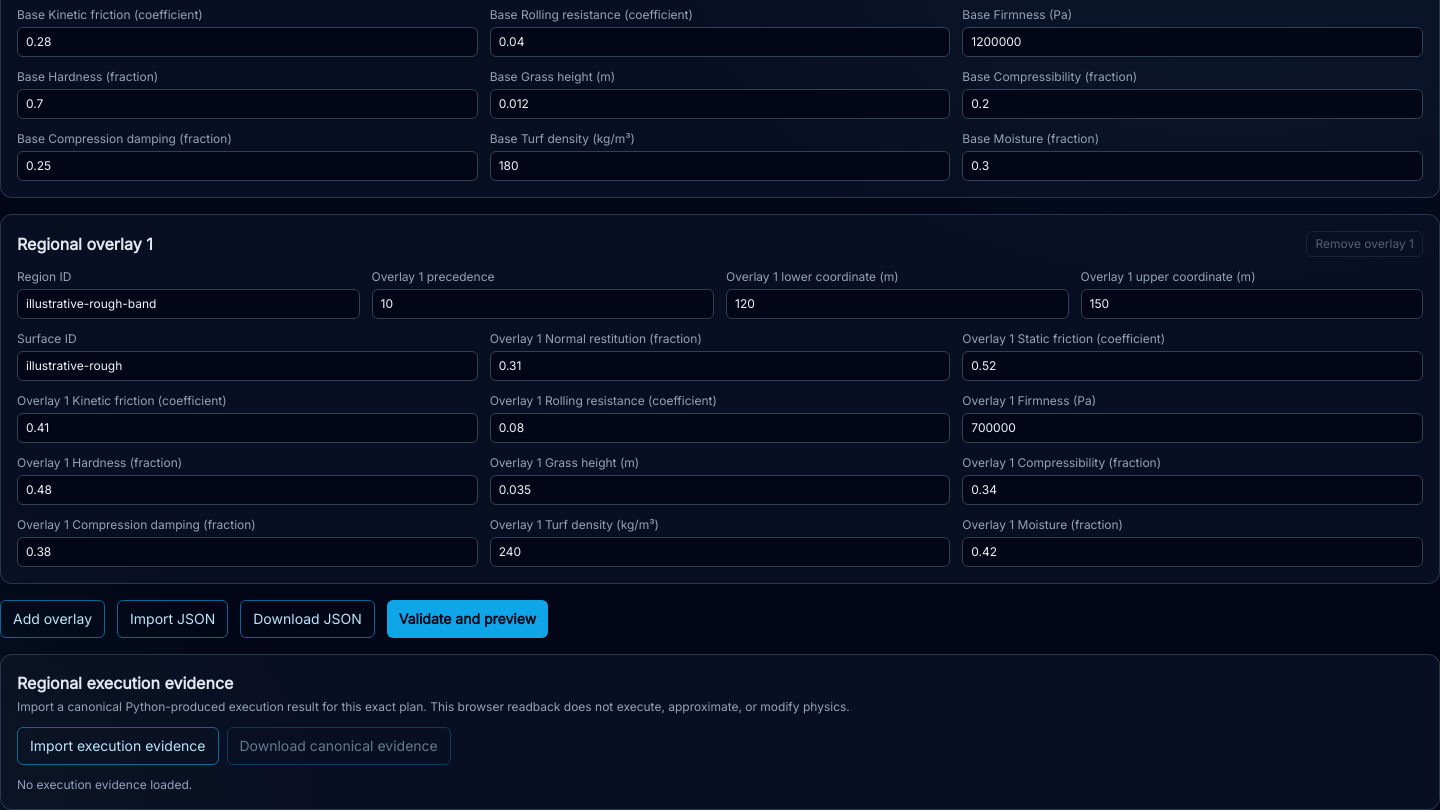
Test: RegionalSurfacePlanPanel › shows explicit qualification, SI units, and strict validated readback
The width and height of the screenshot is (1440, 810).
(page scrolled)
Expected: the number field labelled "Overlay 1 lower coordinate (m)" holds "120", 726,289 -> 1068,319
Click the button with aria-label "Validate surface plan".
click(467, 619)  # box 387,600 -> 548,638
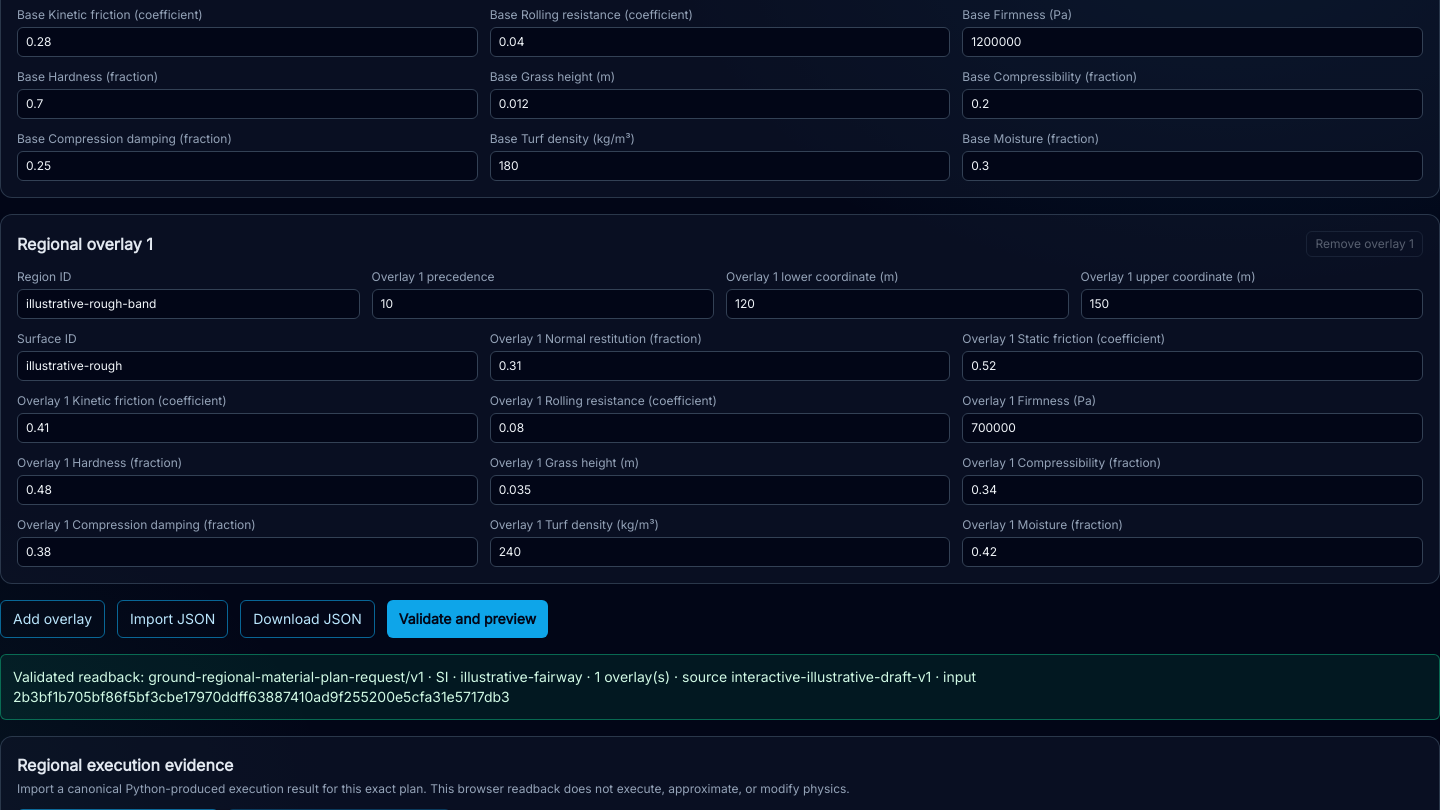
Expected: the message named "Regional surface plan readback" shows "ground-regional-material-plan-request/v1", 13,668 -> 976,705
Expected: the message named "Regional surface plan readback" shows "SI", 13,668 -> 976,705
